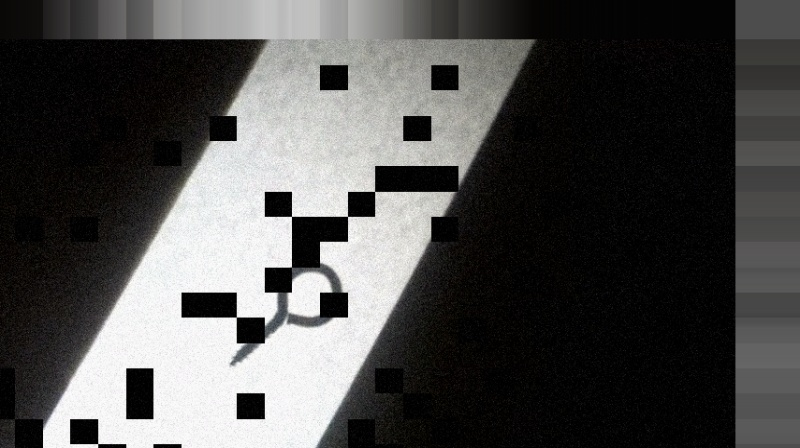O001: (225, 258, 345, 374)
